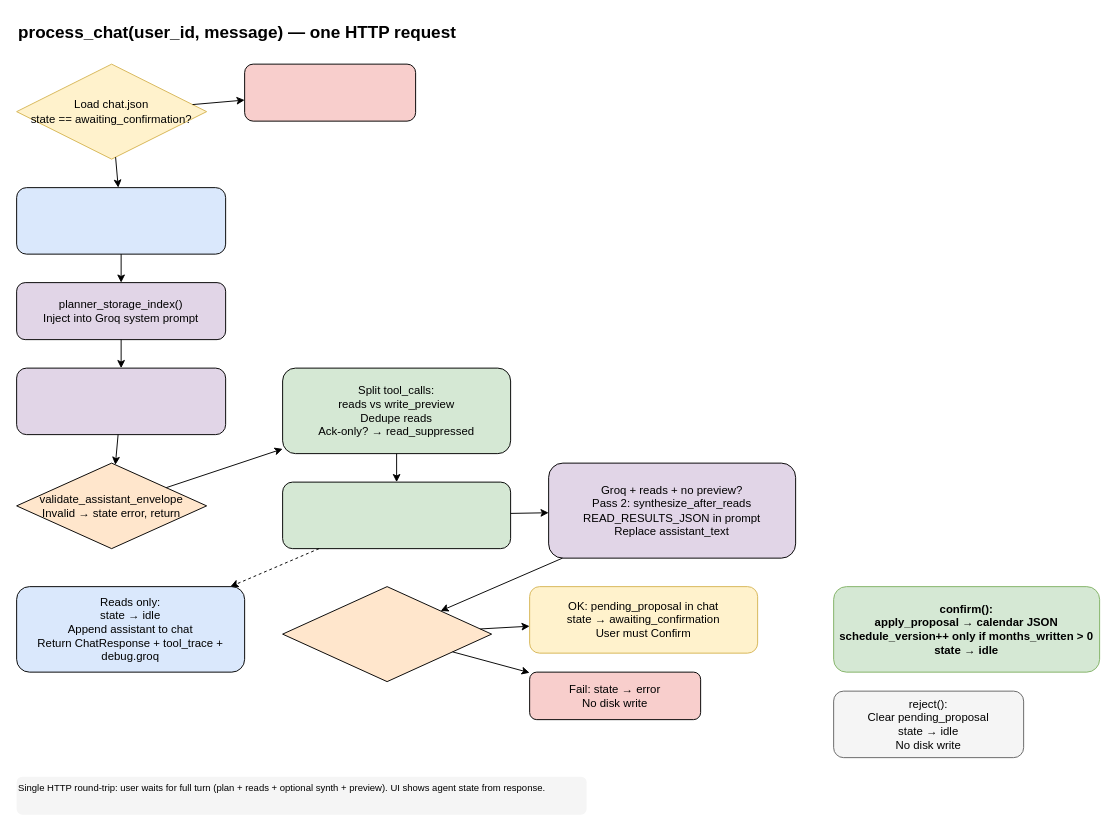
This 1116x830 diagram has some shape labels left out. The shapes that lost their labels are listed below. From the top down, each one's centre as x and y in pixels, then its label:
At [330,92]: "YES: block new chat reply: use Confirm/Reject".
At [121,220]: "Append user message state → analyzing last_turn_id = new UUID".
At [121,401]: "Pass 1: plan_with_groq (or mock_plan) Returns JSON envelope".
At [396,515]: "If reads: state → requesting_data execute_read_tools".
At [387,634]: "If write_preview? build_write_preview_proposal scheduling + rules validate".
